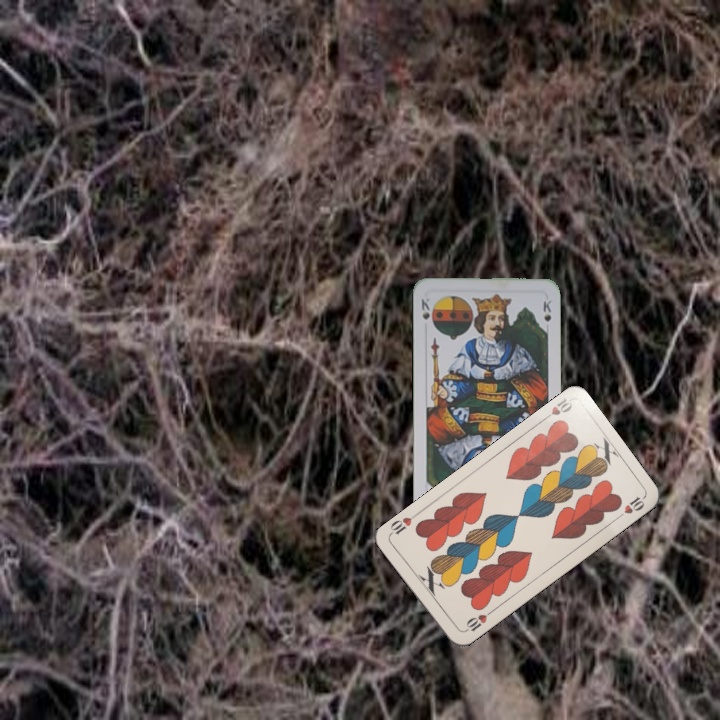H10: (538, 394, 575, 424), (459, 607, 495, 635)
SK: (417, 293, 432, 322)
